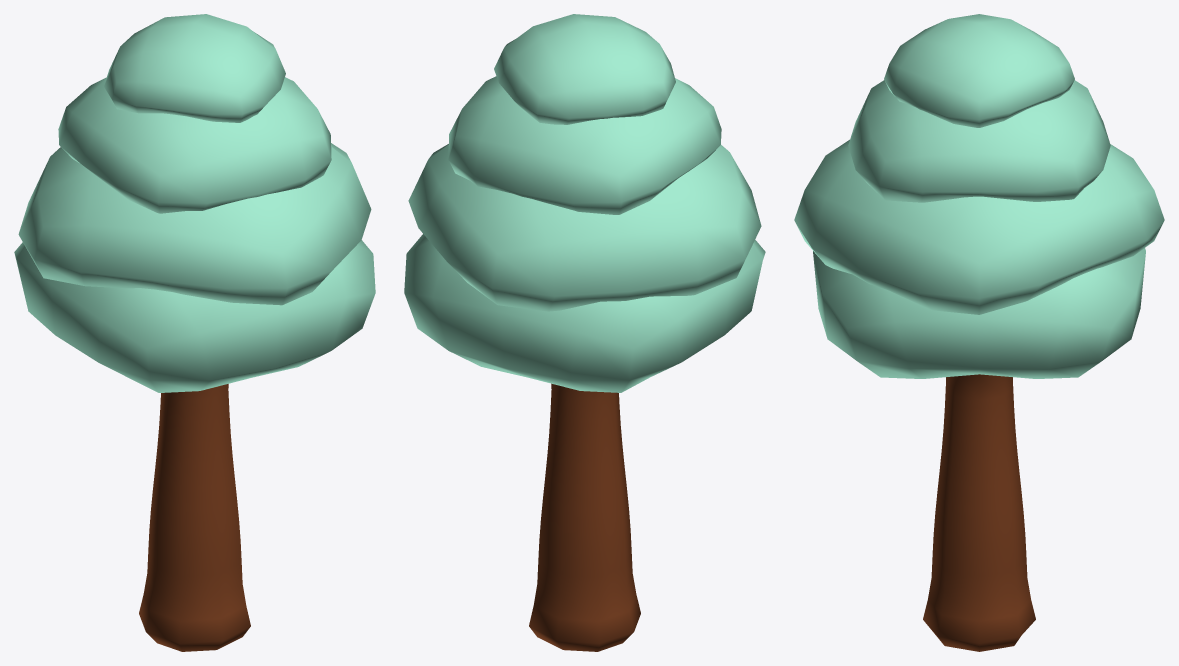
The picture shows the model from 3 angles, left to right: view 1: azimuth 30°, elevation 25°; view 2: azimuth 150°, elevation 25°; view 3: azimuth 270°, elevation 25°; orthographic projection.
Visible parts, largest first — view 1: Plane.003, Trunk; view 2: Plane.003, Trunk; view 3: Plane.003, Trunk.
Part boxes in pixels (left/top/right/bottom): Plane.003: left=14, top=14, right=375, bottom=392; Trunk: left=139, top=384, right=250, bottom=651; Plane.003: left=404, top=14, right=765, bottom=392; Trunk: left=529, top=383, right=640, bottom=651; Plane.003: left=794, top=14, right=1164, bottom=378; Trunk: left=923, top=374, right=1035, bottom=651.
Bounding box in the file's own units: 760 × 1392 × 760.
